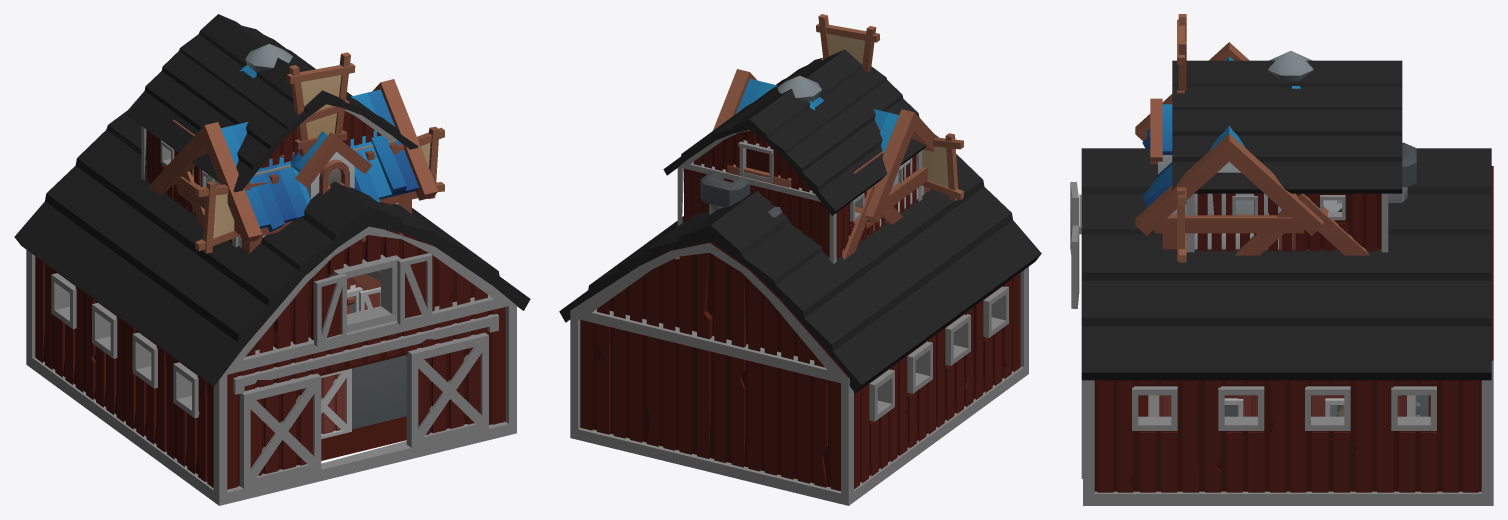
The model's file is kit_c4.glb.
The picture shows the model from 3 angles, left to right: view 1: azimuth 30°, elevation 25°; view 2: azimuth 150°, elevation 25°; view 3: azimuth 270°, elevation 25°; orthographic projection. The views are drawn at different scales.
Visible parts, largest first — view 1: BigBarn, building_watermill_blue, BigBarn_Door, BigBarn_Door2, building_windmill_top_fan_blue, BigBarn_Window, BigBarn_Window2, Small_Barn_Door, building_windmill_top_blue; view 2: BigBarn, building_watermill_blue, building_windmill_top_fan_blue, building_home_B_blue, building_windmill_top_blue; view 3: BigBarn, building_watermill_blue, building_home_B_blue, Small_Barn, building_windmill_top_fan_blue, building_windmill_top_blue, BigBarn_Window.
Boxes of the visible parts, x1=… form: BigBarn: x1=14, y1=14, x2=530, y2=505; building_watermill_blue: x1=160, y1=79, x2=438, y2=429; BigBarn_Door: x1=406, y1=332, x2=488, y2=447; BigBarn_Door2: x1=239, y1=373, x2=321, y2=488; building_windmill_top_fan_blue: x1=195, y1=52, x2=444, y2=253; BigBarn_Window: x1=397, y1=253, x2=432, y2=324; BigBarn_Window2: x1=314, y1=273, x2=346, y2=346; Small_Barn_Door: x1=321, y1=368, x2=351, y2=438; building_windmill_top_blue: x1=173, y1=44, x2=342, y2=202; BigBarn: x1=559, y1=49, x2=1041, y2=505; building_watermill_blue: x1=713, y1=69, x2=937, y2=231; building_windmill_top_fan_blue: x1=816, y1=14, x2=963, y2=200; building_home_B_blue: x1=675, y1=171, x2=902, y2=259; building_windmill_top_blue: x1=725, y1=75, x2=883, y2=228; BigBarn: x1=1079, y1=60, x2=1493, y2=505; building_watermill_blue: x1=1135, y1=42, x2=1428, y2=416; building_home_B_blue: x1=1235, y1=142, x2=1419, y2=416; Small_Barn: x1=1148, y1=395, x2=1415, y2=416; building_windmill_top_fan_blue: x1=1177, y1=14, x2=1186, y2=262; building_windmill_top_blue: x1=1268, y1=50, x2=1341, y2=211; BigBarn_Window: x1=1071, y1=225, x2=1079, y2=308.
Size of the model in its own units: 11.75 by 13 by 12.5.
